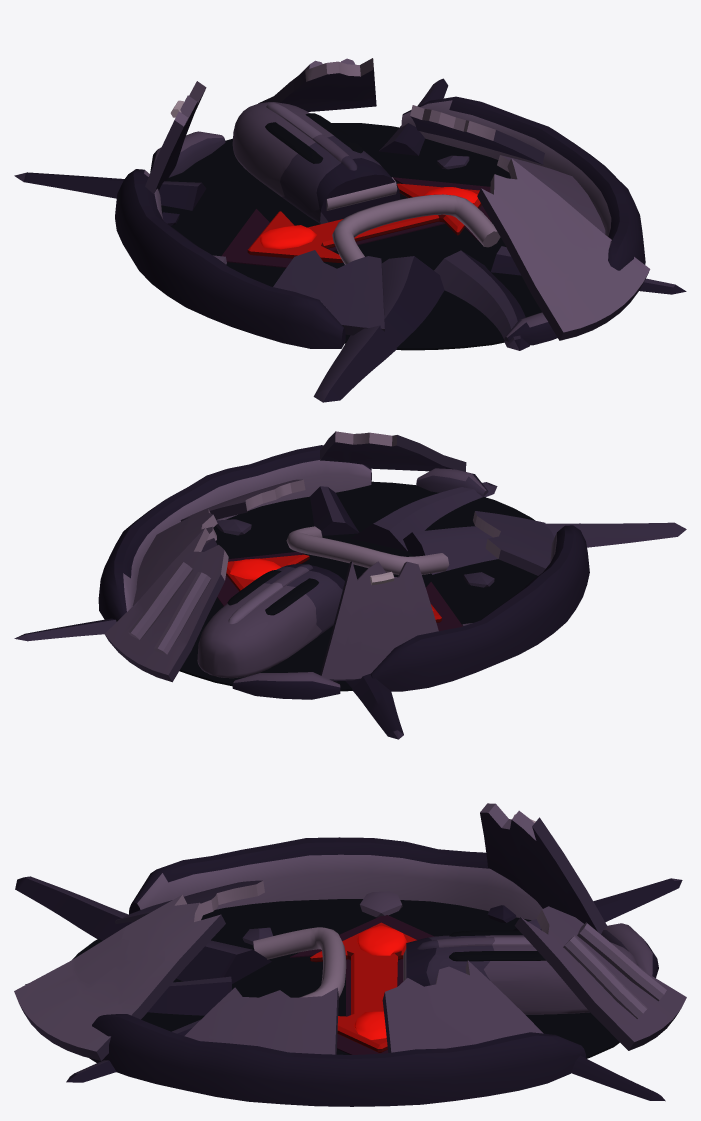
The model's file is pod_dome_wreck.glb.
3 views of the same model, one above another, from view 1: azimuth 30°, elevation 25°; view 2: azimuth 150°, elevation 25°; view 3: azimuth 270°, elevation 25° (orthographic). The views are drawn at different scales.
Parts seen in each view (by area): view 1: pit_floor, petal5, rim2, cowl, rim0, blade0, petal4, bracket, petal2, blade1, arrow, petal0 (+12 smaller); view 2: pit_floor, rim2, rim0, cowl, petal3, petal2, blade0, petal5, petal4, blade1, bracket, petal0 (+14 smaller); view 3: rim0, rim2, petal5, pit_floor, petal0, petal1, petal2, petal3, cowl, blade0, arrow, bracket (+14 smaller).
Boxes of the visible parts, x1,y1,x2,y2 form: pit_floor: (161,123,541,350); petal5: (477,158,650,340); rim2: (115,169,345,348); cowl: (232,102,400,223); rim0: (401,96,645,270); blade0: (313,256,444,402); petal4: (273,250,384,335); bracket: (332,194,500,264); petal2: (258,58,376,111); blade1: (434,250,529,350); arrow: (247,183,481,262); petal0: (410,105,544,164); pit_floor: (179,481,537,691); rim2: (370,525,589,691); rim0: (98,445,371,621); cowl: (197,564,344,678); petal3: (320,561,438,681); petal2: (104,527,228,682); blade0: (403,522,686,574); petal5: (320,431,466,471); petal4: (473,511,554,575); blade1: (350,482,497,551); bracket: (286,526,449,574); petal0: (132,509,217,605); rim0: (89,1014,586,1106); rim2: (129,837,542,920); petal5: (14,895,225,1060); pit_floor: (72,899,619,1058); petal0: (382,960,543,1052); petal1: (184,987,338,1054); petal2: (514,906,686,1050); petal3: (480,803,607,933); cowl: (406,935,637,1014); blade0: (15,876,271,983); arrow: (310,922,416,1052); bracket: (253,927,346,997).
Bounding box in the file's own units: 19.53 × 7.6 × 24.27.
